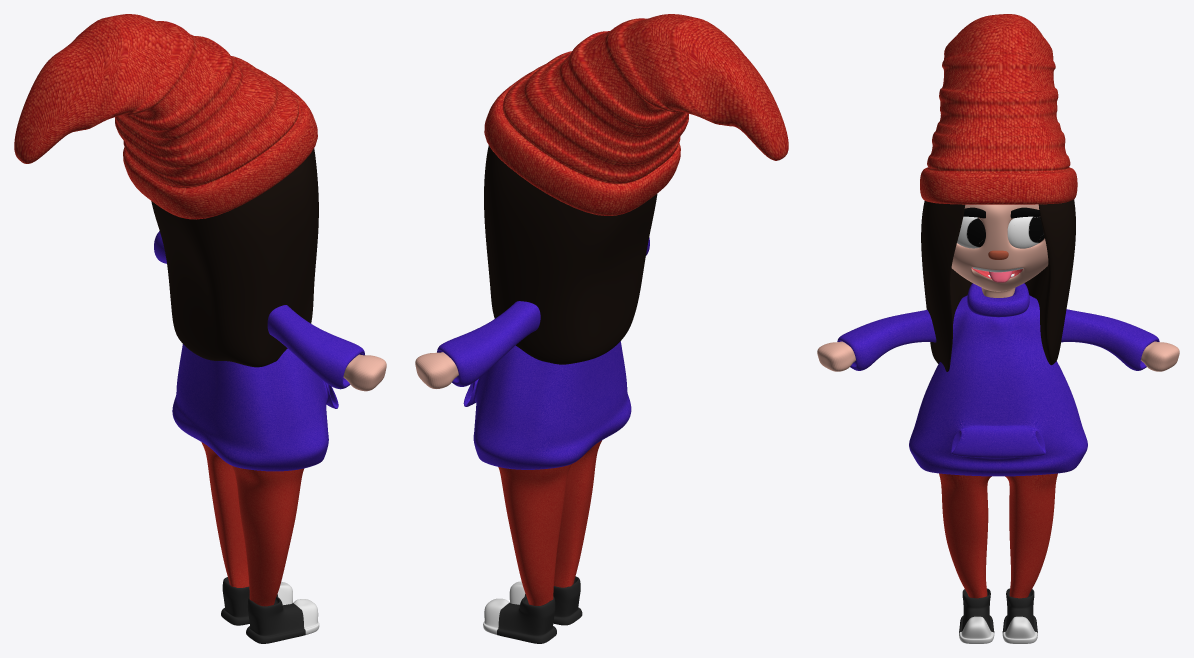
The model's file is personaje-eli.glb.
3 renders of one model, left to right at view 1: azimuth 30°, elevation 25°; view 2: azimuth 150°, elevation 25°; view 3: azimuth 270°, elevation 25°, orthographic. The views are drawn at different scales.
Parts seen in each view (by area): view 1: Cube.006, Cube.008, Cube, Cube.001, Cube.013, Cube.012; view 2: Cube.006, Cube.008, Cube, Cube.001, Cube.013, Cube.012; view 3: Cube, Cube.006, Cube.008, Cube.001, Cube.002, Cube.013, Cube.012, Cube.004.
Boxes of the visible parts, x1=… form: Cube.006: x1=14, y1=14, x2=317, y2=219; Cube.008: x1=151, y1=148, x2=318, y2=367; Cube: x1=154, y1=231, x2=364, y2=471; Cube.001: x1=201, y1=442, x2=304, y2=606; Cube.013: x1=221, y1=577, x2=319, y2=643; Cube.012: x1=343, y1=354, x2=386, y2=391; Cube.006: x1=484, y1=14, x2=788, y2=215; Cube.008: x1=484, y1=145, x2=657, y2=364; Cube: x1=437, y1=237, x2=649, y2=469; Cube.001: x1=498, y1=440, x2=601, y2=605; Cube.013: x1=483, y1=576, x2=582, y2=643; Cube.012: x1=415, y1=352, x2=458, y2=388; Cube: x1=837, y1=283, x2=1159, y2=476; Cube.006: x1=920, y1=14, x2=1077, y2=204; Cube.008: x1=921, y1=199, x2=1075, y2=371; Cube.001: x1=939, y1=473, x2=1057, y2=598; Cube.002: x1=951, y1=204, x2=1048, y2=297; Cube.013: x1=959, y1=588, x2=1037, y2=643; Cube.012: x1=817, y1=341, x2=1179, y2=371; Cube.004: x1=957, y1=216, x2=1044, y2=248.
Size of the model in its own units: 3.26 by 6.7 by 3.98.
Materials: 13 (4 with a texture image).
